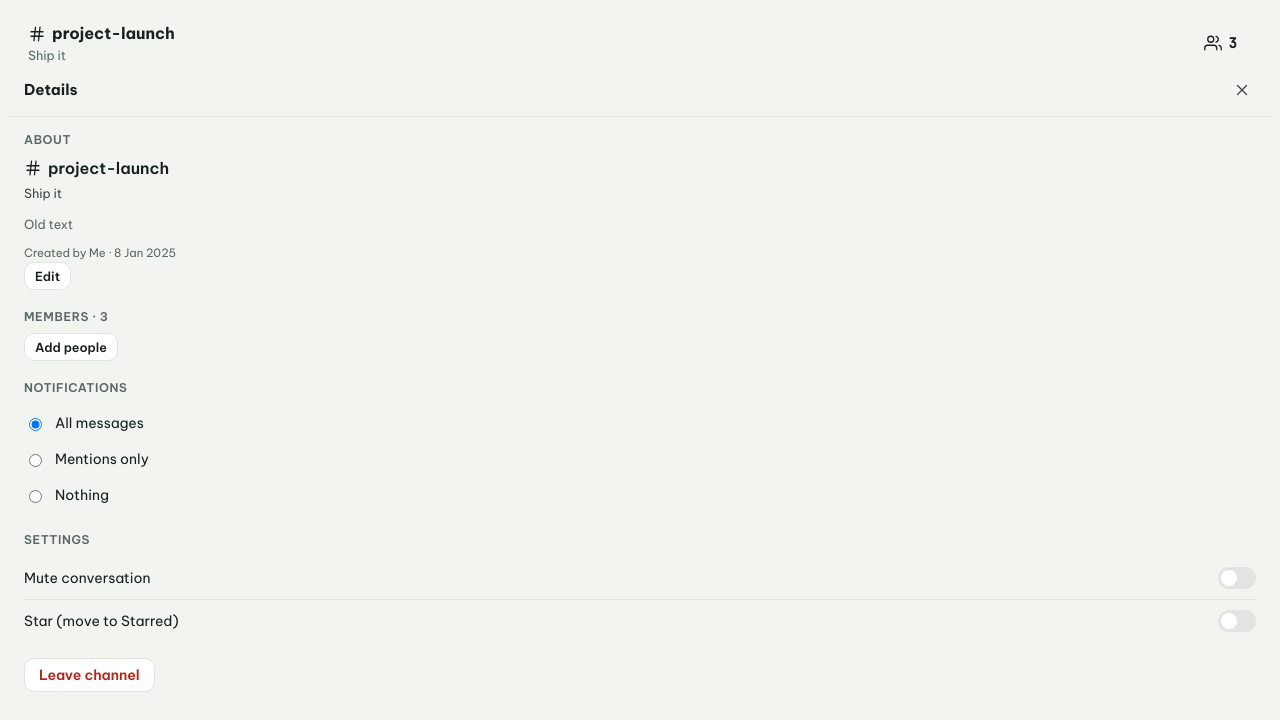
Test: the form (R15) › an Escape during an IME composition (isComposing) keeps the form
Click the button "Edit".
click(48, 276)  # box [24,262,71,290]
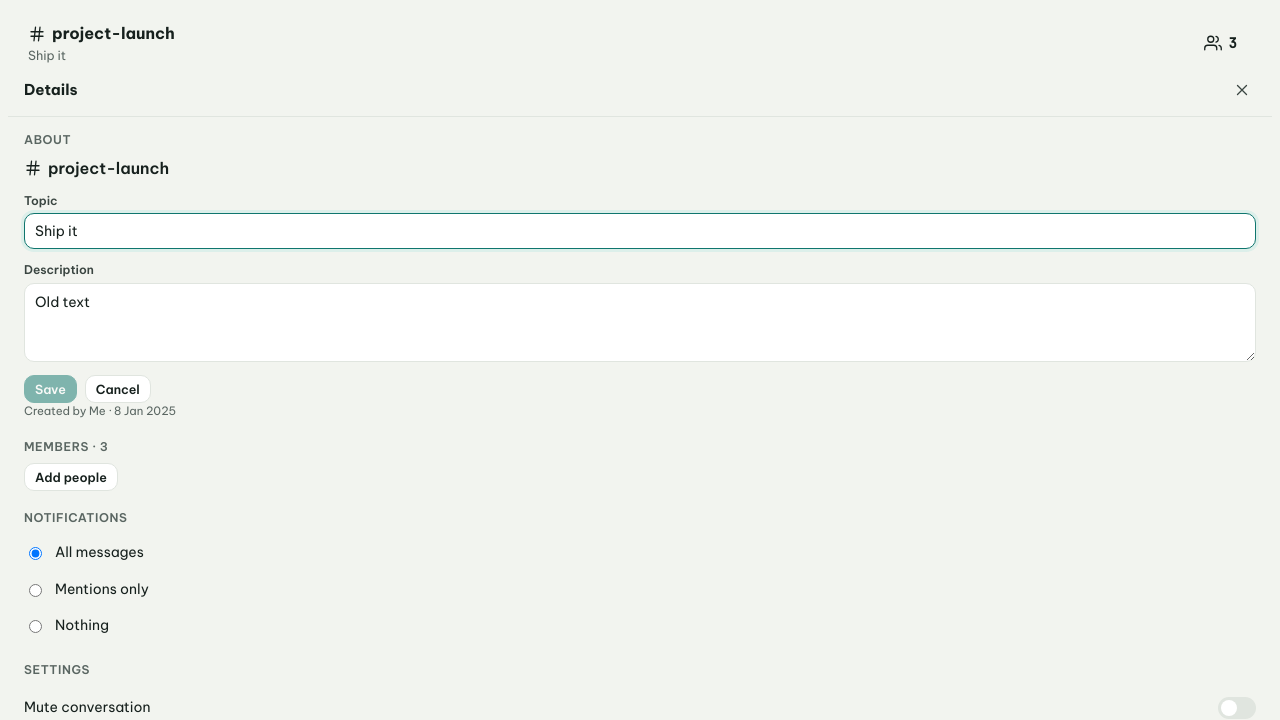
Press Escape in the field labelled "Topic", box [24,213,1256,249]
Expected: the field labelled "Topic" is shown
Press Escape in the field labelled "Topic", box [24,213,1256,249]
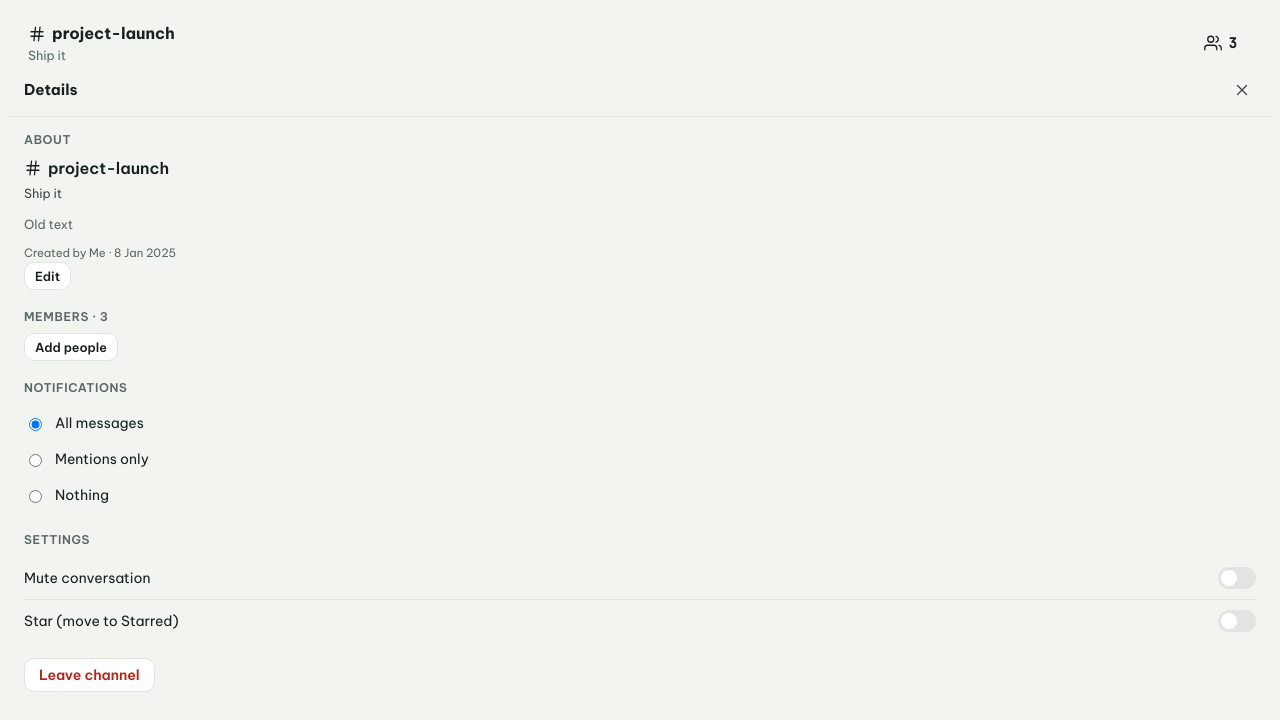
Expected: the label labelled "Topic" is gone
